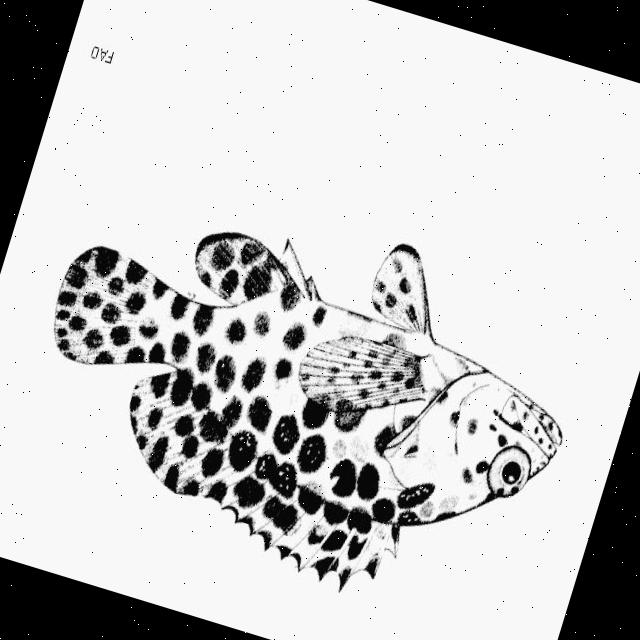ikan: (0, 151, 604, 640)
